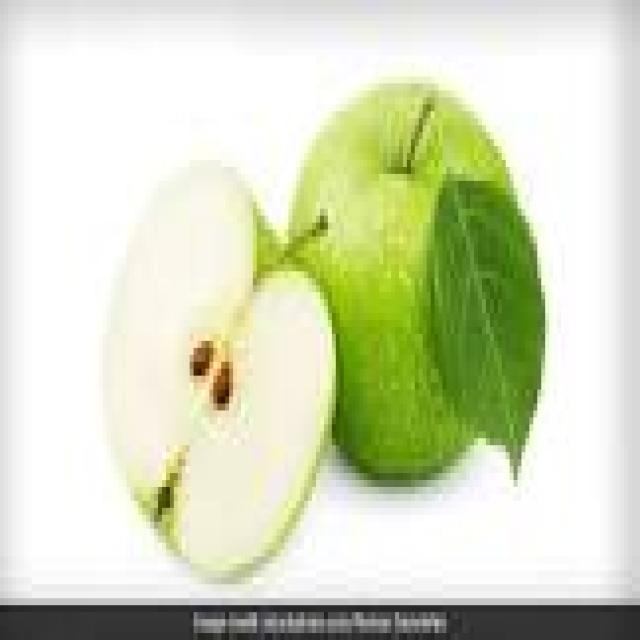apple: (107, 160, 335, 577), (289, 84, 509, 479)
